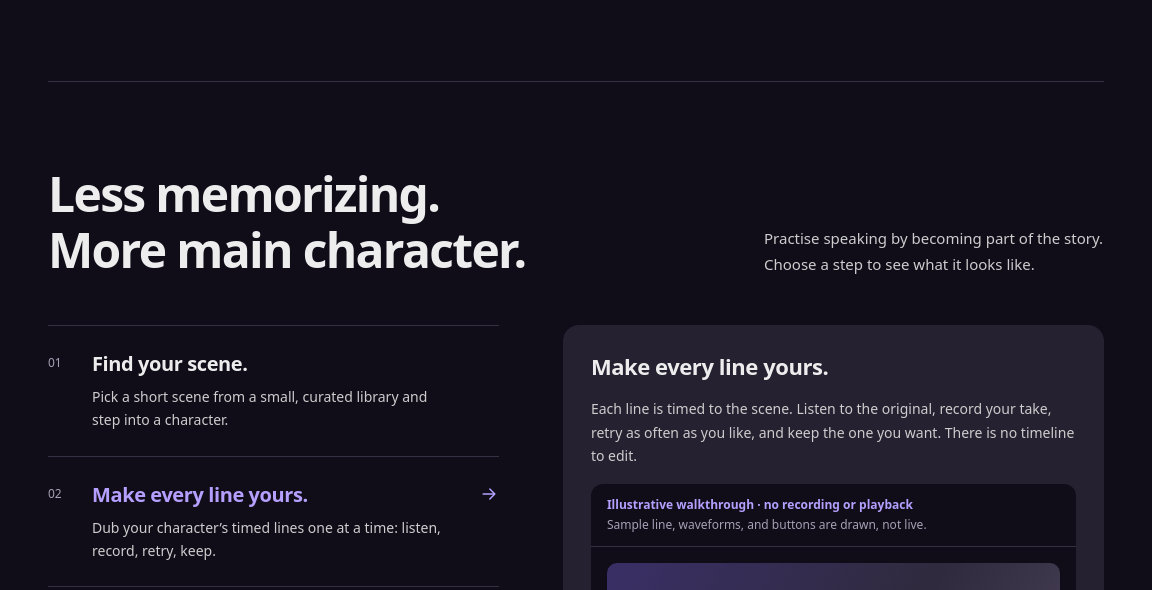
Test: walkthrough tabs › Previous and Next step buttons work from the keyboard and stop at the ends
Later steps or results of the test are not shown.
(page scrolled)
Click the tab "Find your scene." at point(170, 364), box [92,350,463,377]
(page scrolled)
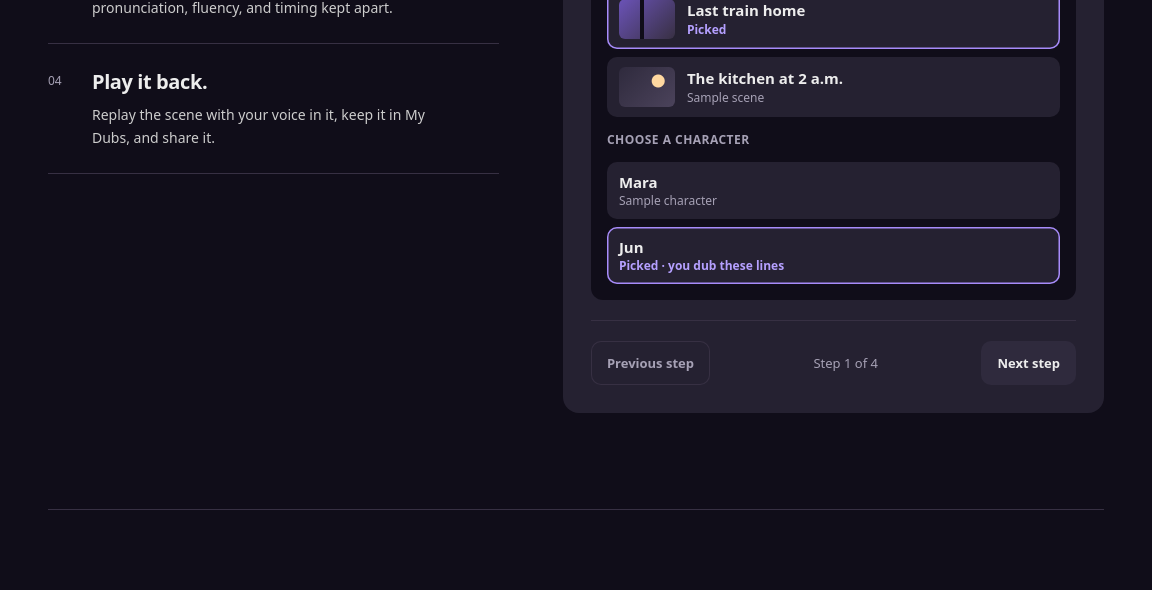
Expected: the button "Previous step" is disabled
Click the button "Previous step" at point(650, 363), box [591,341,710,385]
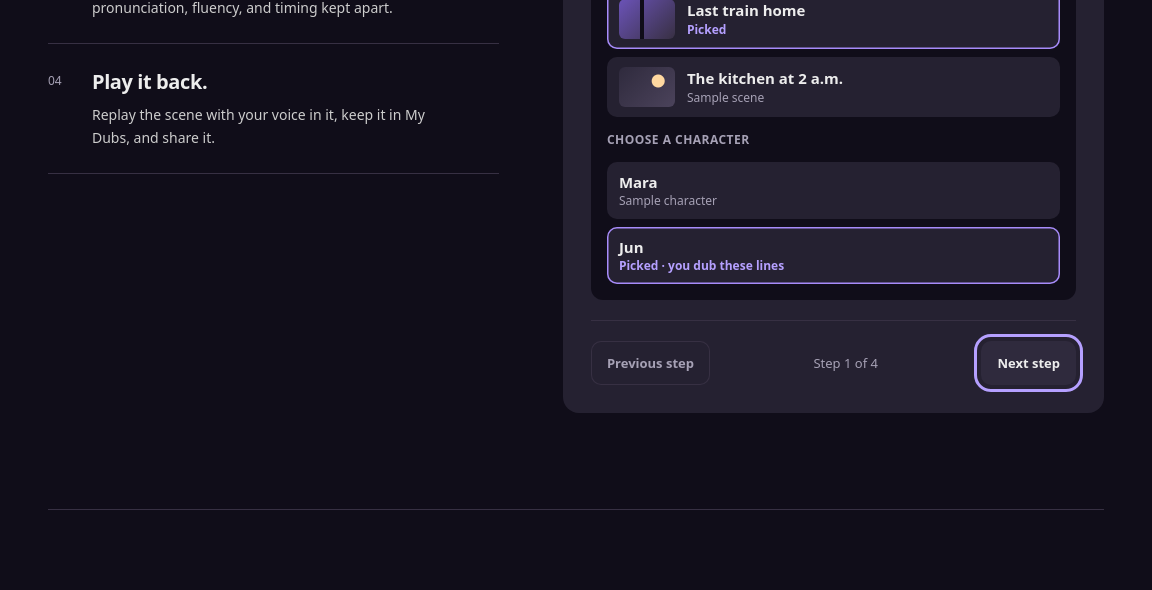
Press Enter
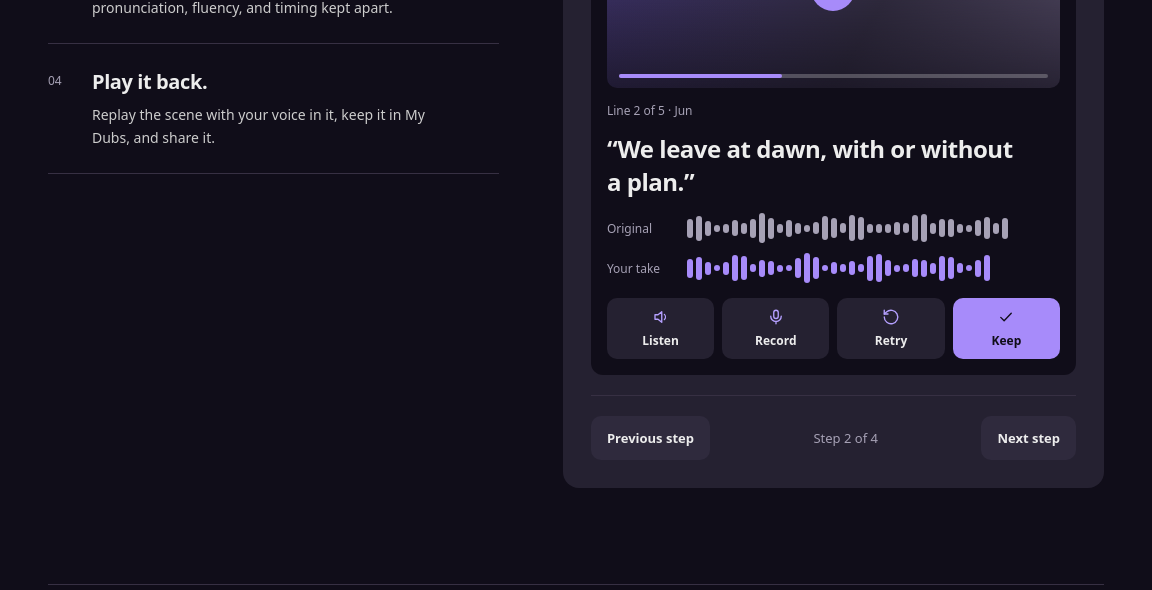
Click the tab "Play it back." at point(150, 81), box [92,68,463,95]
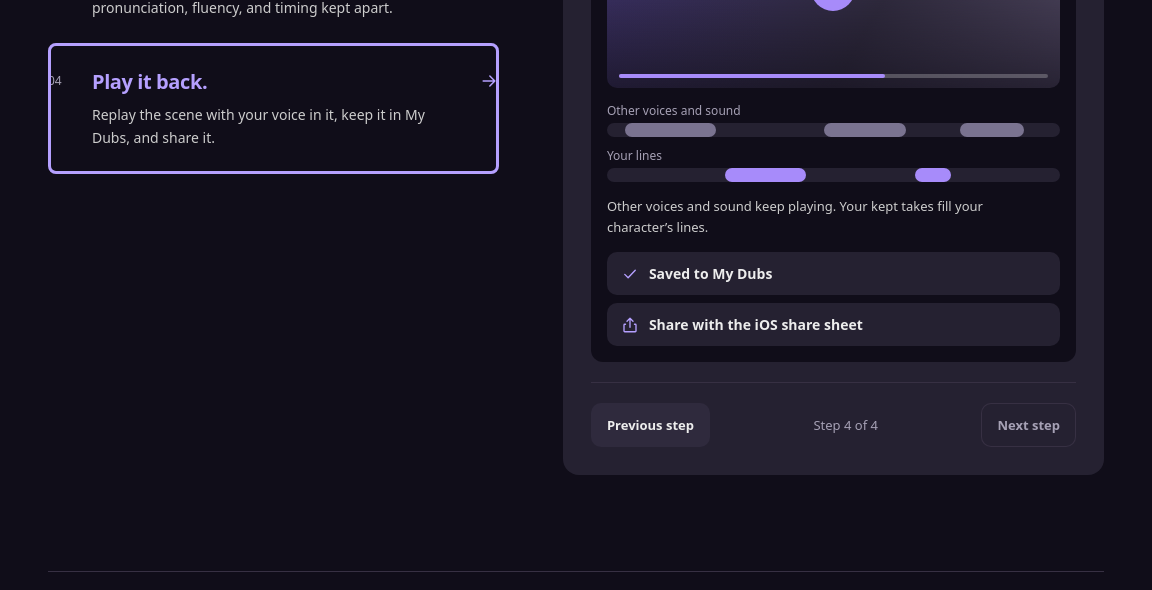
Expected: the button "Next step" is disabled, [982,403,1076,447]
